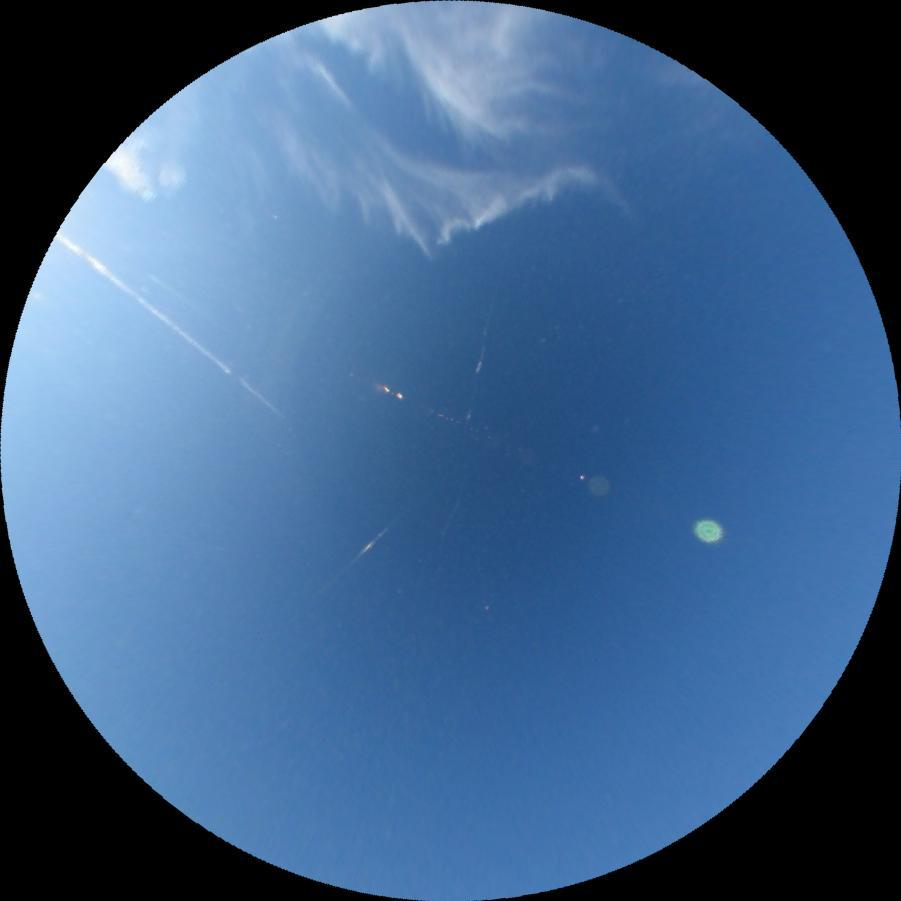parasite: (51, 230, 289, 420), (462, 279, 506, 424), (351, 506, 407, 562), (436, 494, 461, 539)
unknow: (149, 272, 192, 306)
